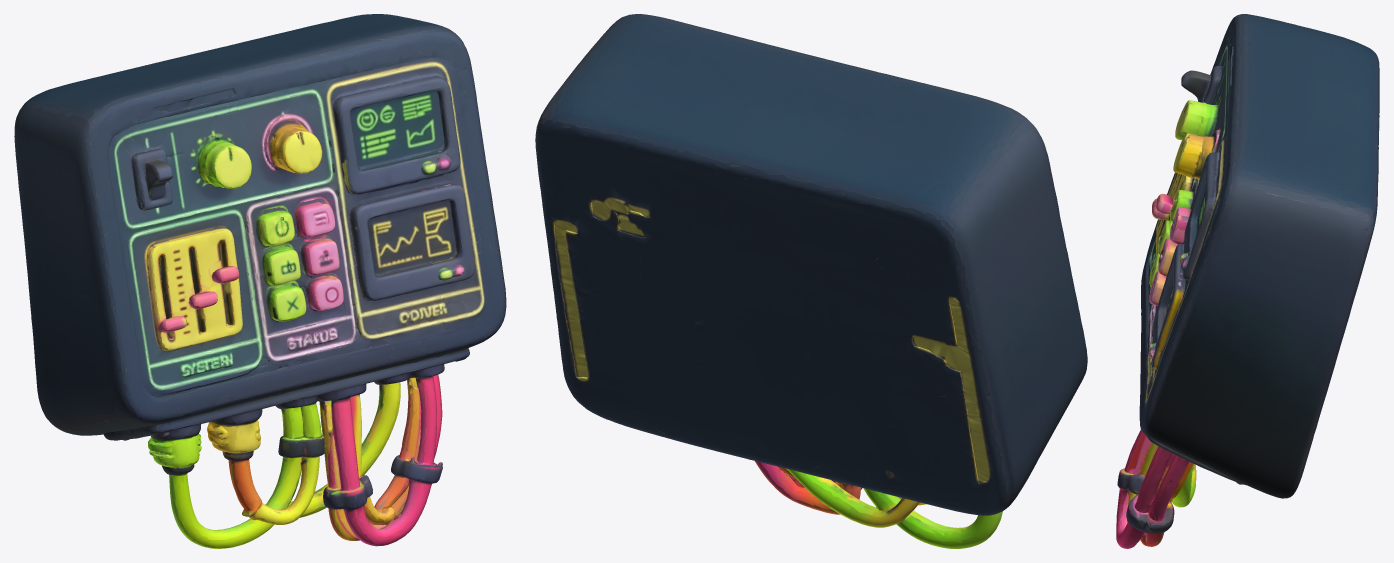
The model's file is u_prp_control_panel.glb.
The picture shows the model from 3 angles, left to right: view 1: azimuth 30°, elevation 25°; view 2: azimuth 150°, elevation 25°; view 3: azimuth 270°, elevation 25°; orthographic projection. The views are drawn at different scales.
Parts seen in each view (by area): view 1: geometry_0; view 2: geometry_0; view 3: geometry_0.
Part boxes in pixels (left/top/right/bottom): geometry_0: left=14, top=14, right=506, bottom=548; geometry_0: left=535, top=14, right=1087, bottom=548; geometry_0: left=1116, top=14, right=1379, bottom=548.
Bounding box in the file's own units: 0.25 × 0.2672 × 0.1483.
Materials: 1 (1 with a texture image).
